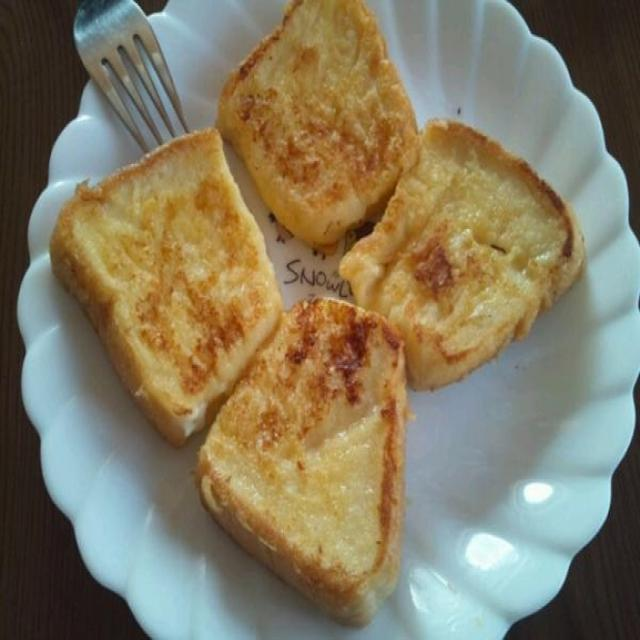面包点心: (33, 4, 601, 610)
